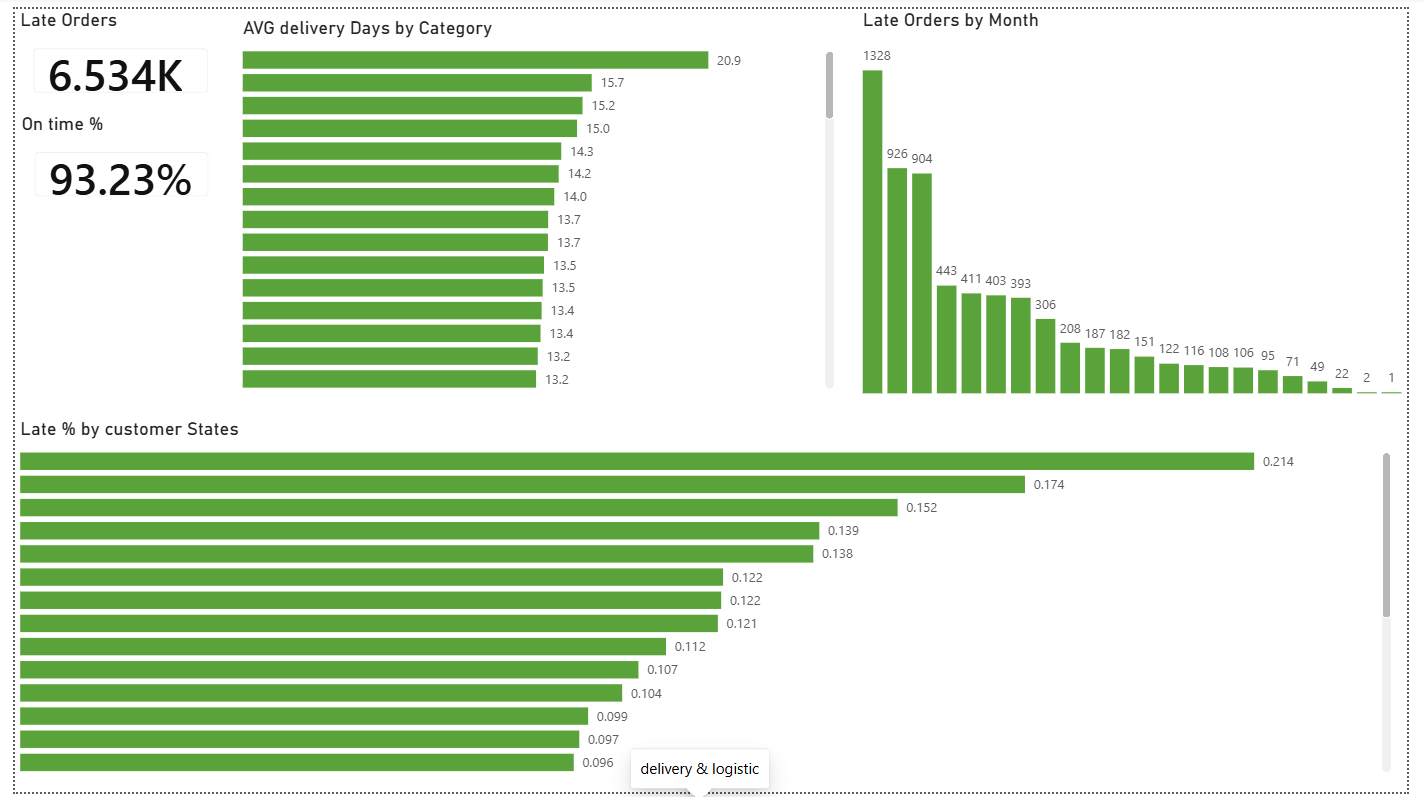

This screenshot's page, from the dashboard's own definition file:
{"tool":"powerbi","page":{"name":"delivery & logistic","canvas":[1280,720],"ordinal":4},"visuals":[{"type":"cardVisual","title":"Late Orders","fields":{"Data":["public bi_fact_sales.Late Orders"]},"box":[0,0,195.3,95.2],"z":0},{"type":"cardVisual","title":"On time %","fields":{"Data":["public bi_fact_sales.On-time %"]},"box":[1.2,95.2,194,95.2],"z":1000},{"type":"clusteredColumnChart","title":"Late Orders by Month","fields":{"Category":["DimDate.Year-Month"],"Y":["public bi_fact_sales.Late Orders"]},"box":[774.8,0,505.4,359.6],"z":2000},{"type":"barChart","title":"AVG delivery Days by Category","fields":{"Category":["public bi_fact_sales.category"],"Y":["public bi_fact_sales.Avg Delivery Days"]},"box":[205.1,7.4,553.6,347.2],"z":3000},{"type":"barChart","title":"Late % by customer States","fields":{"Category":["public bi_fact_sales.customer_state"],"Y":["public bi_fact_sales.Late %"]},"box":[0,375.7,1270.4,331.2],"z":4000}]}

Visuals, with their boxes in screenshot pixels (x1, y1, x2, y2), scaled from the page's 1280x720 canvas onto the 1425x797 screenshot:
"Late Orders" cardVisual: select_region(0, 0, 217, 105)
"On time %" cardVisual: select_region(1, 105, 217, 211)
"Late Orders by Month" clusteredColumnChart: select_region(863, 0, 1424, 398)
"AVG delivery Days by Category" barChart: select_region(228, 8, 845, 393)
"Late % by customer States" barChart: select_region(0, 416, 1414, 782)
